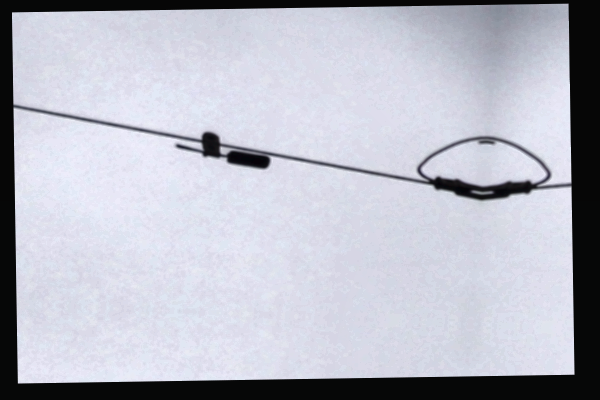damper_defect: (172, 129, 271, 170)
